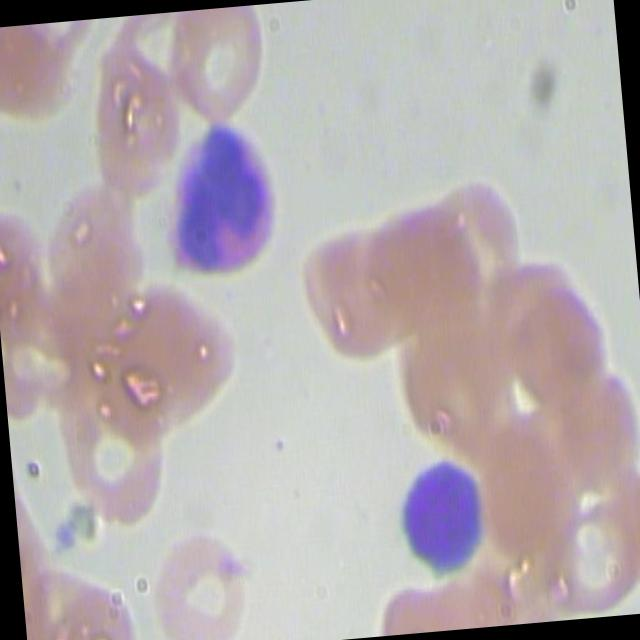RBC: (50, 364, 172, 536), (290, 224, 418, 375), (31, 172, 158, 323), (70, 38, 197, 188), (498, 280, 615, 418), (416, 167, 532, 302), (159, 2, 282, 124), (534, 483, 640, 620), (538, 364, 640, 499), (137, 530, 260, 640)
WBC: (148, 112, 291, 288), (387, 449, 492, 578)
